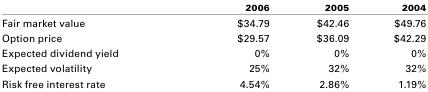table: (0, 0, 425, 89)
table column: (0, 0, 177, 89), (177, 0, 292, 89), (292, 0, 370, 89), (370, 0, 425, 89)
table column header: (0, 0, 425, 14)
table row: (0, 14, 425, 30), (0, 30, 425, 45), (0, 45, 425, 60), (0, 60, 425, 75), (0, 0, 425, 14), (0, 75, 425, 89)
